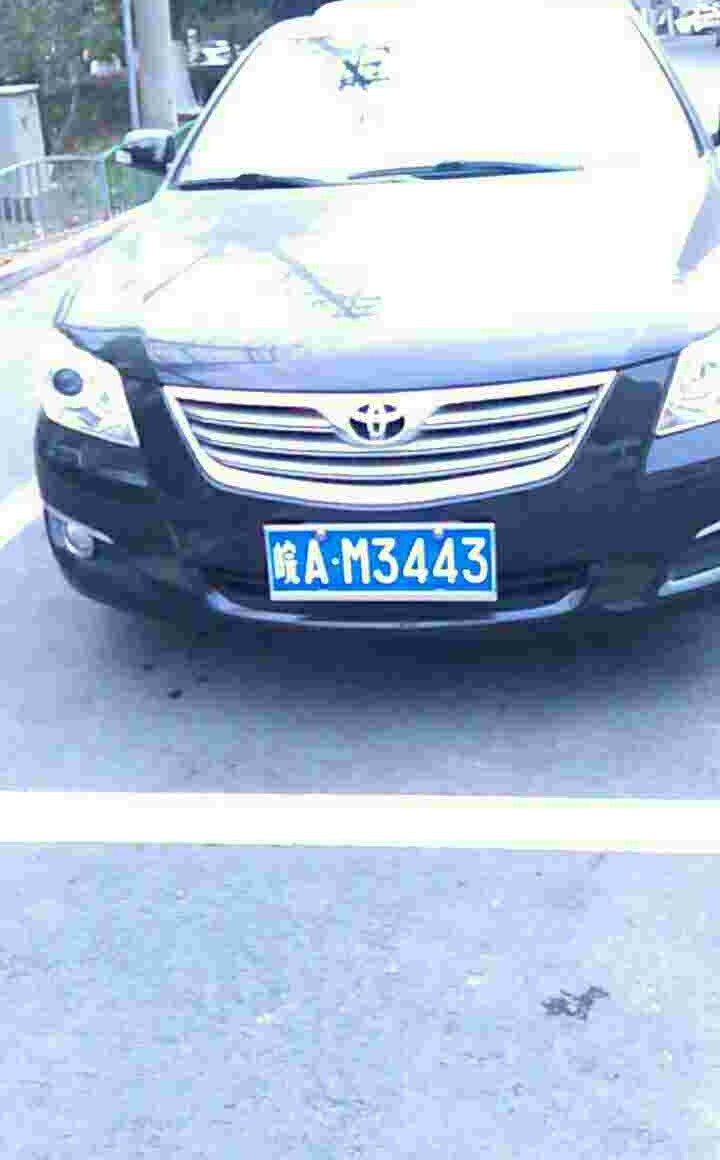license_plate: (251, 520, 489, 604)
